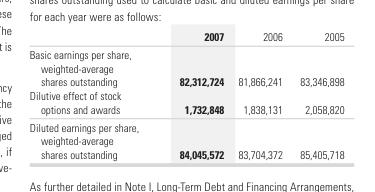table: (28, 29, 343, 160)
table column: (28, 29, 158, 160), (158, 29, 230, 160), (230, 29, 290, 160), (290, 29, 343, 160)
table column header: (28, 29, 343, 45)
table row: (28, 45, 343, 88), (28, 117, 343, 160), (28, 88, 343, 117), (28, 29, 343, 45)
